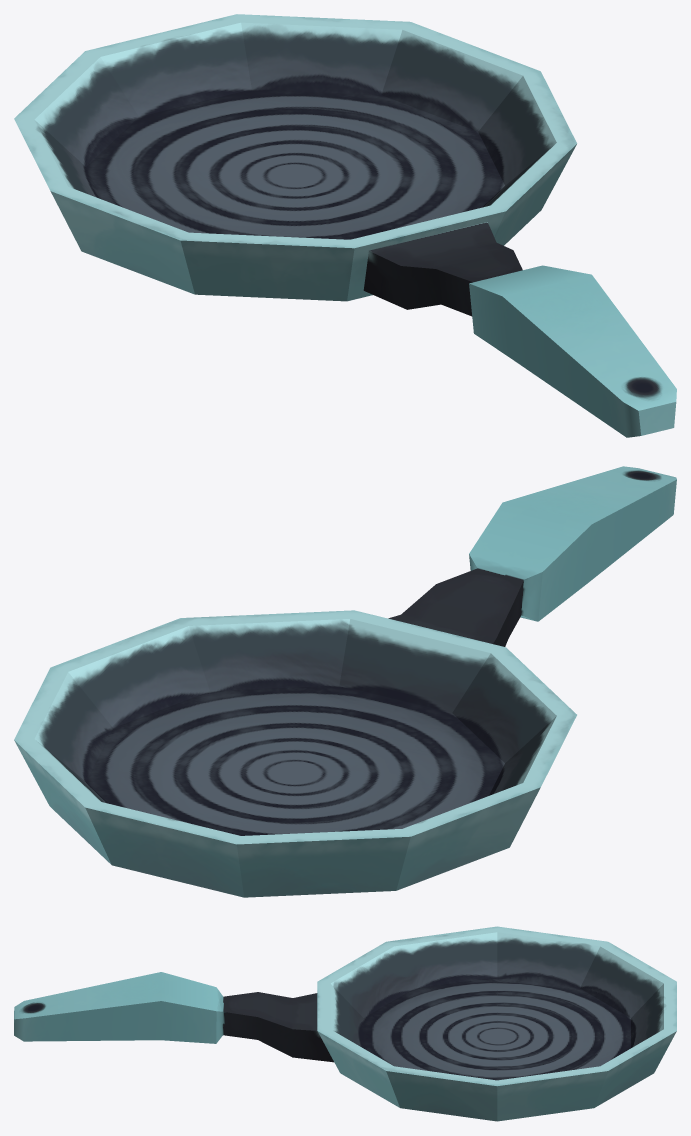
File: FryingPan_Cmillman.fbx
3 renders of one model, top to bottom at view 1: azimuth 30°, elevation 25°; view 2: azimuth 150°, elevation 25°; view 3: azimuth 270°, elevation 25°, orthographic. The views are drawn at different scales.
Visible parts, largest first — view 1: FryingPan; view 2: FryingPan; view 3: FryingPan.
Boxes of the visible parts, left/top/right/bottom form: FryingPan: left=14, top=14, right=676, bottom=437; FryingPan: left=14, top=466, right=676, bottom=897; FryingPan: left=14, top=926, right=676, bottom=1121.
Size of the model in its own units: 1.04 by 0.1989 by 1.83.
1 material, 1 textured.
